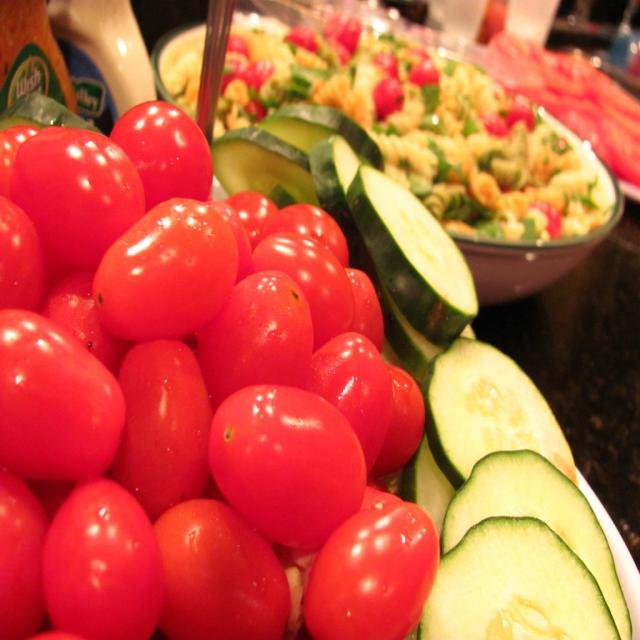Tomato: (210, 381, 365, 557), (0, 311, 129, 486), (89, 196, 239, 336), (305, 493, 445, 639), (39, 473, 160, 639), (10, 125, 148, 267), (110, 335, 212, 527), (154, 495, 289, 639), (198, 266, 314, 404), (308, 331, 396, 475), (110, 96, 215, 212), (251, 243, 357, 353), (36, 269, 136, 373), (0, 476, 54, 640), (374, 363, 428, 481), (0, 196, 45, 317), (272, 201, 347, 267), (0, 124, 48, 202), (227, 189, 281, 258), (347, 267, 387, 355)
